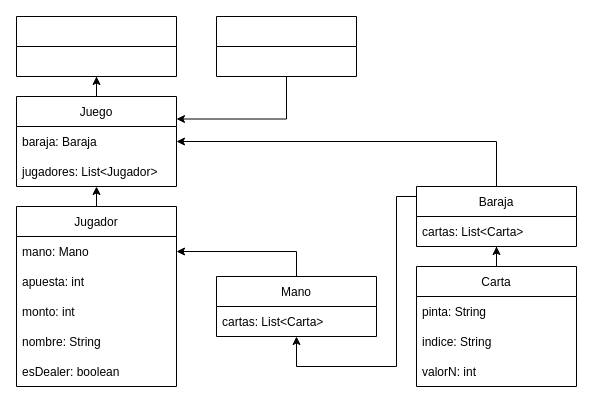
This 593x403 diagram has some shape labels left out. The centre of each missing label's shape, as x and y in pixels:
"Tablero" belongs at point (96, 46).
"Utilidad" belongs at point (286, 46).
